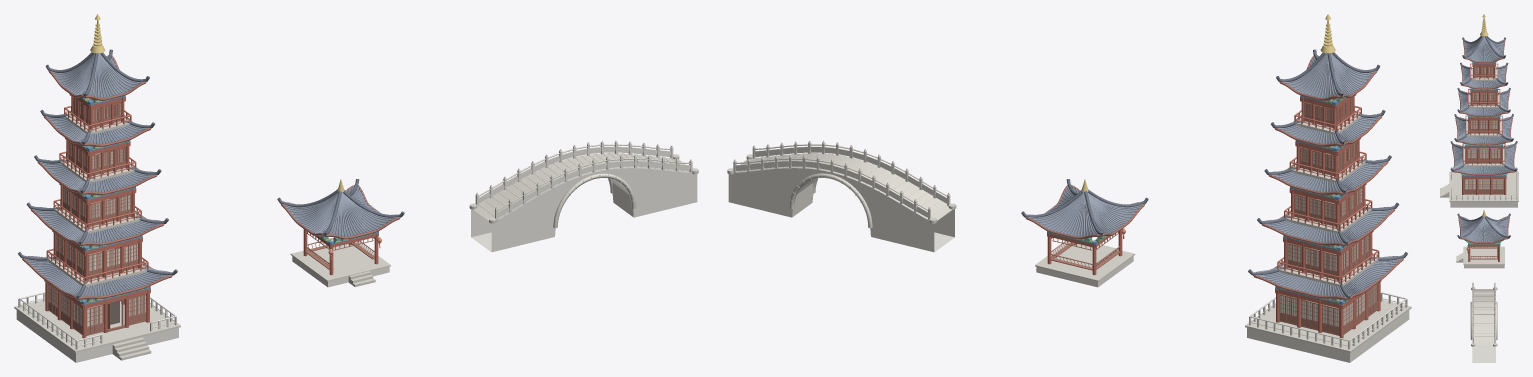
File: structures.glb
The picture shows the model from 3 angles, left to right: view 1: azimuth 30°, elevation 25°; view 2: azimuth 150°, elevation 25°; view 3: azimuth 270°, elevation 25°; orthographic projection. The views are drawn at different scales.
Parts seen in each view (by area): view 1: pagoda, bridge, ting; view 2: pagoda, bridge, ting; view 3: pagoda, ting, bridge.
Part boxes in pixels (x1,y1,x2,y2): pagoda: (14,14,180,362); bridge: (469,140,698,252); ting: (277,179,404,287); pagoda: (1245,14,1411,362); bridge: (727,140,956,252); ting: (1021,179,1148,287); pagoda: (1440,14,1518,207); ting: (1456,210,1510,268); bridge: (1470,282,1497,362).
Bounding box in the file's own units: 68.8 × 33.14 × 12.82.
